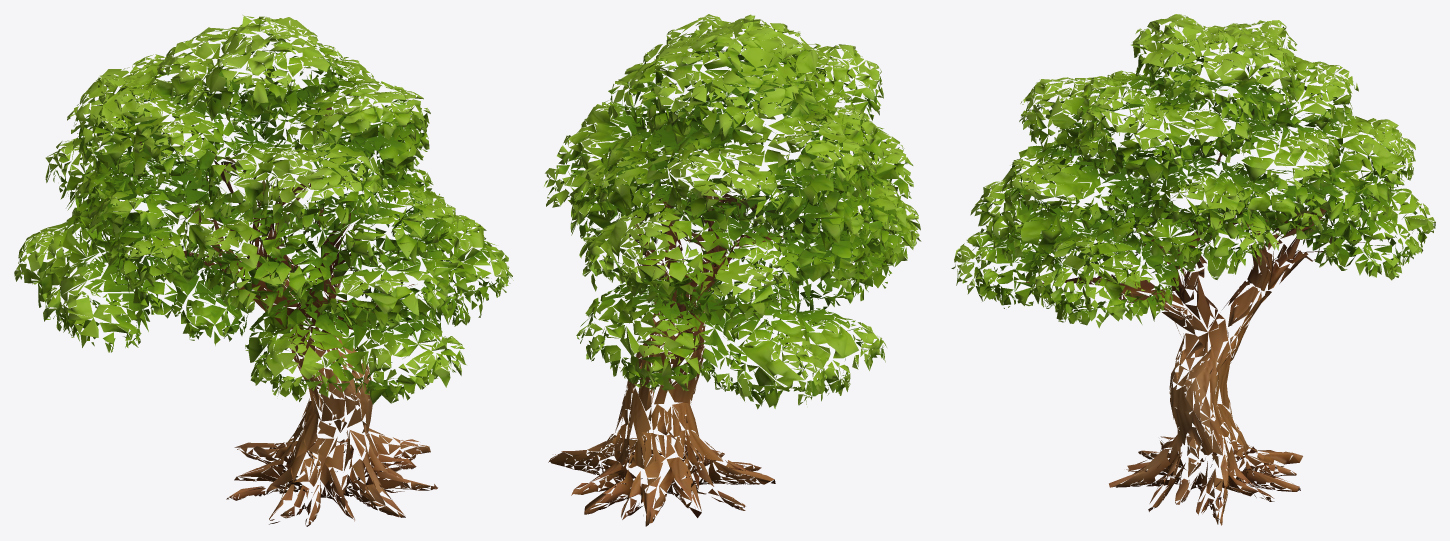
Rendered from plains_tree_01.glb.
The picture shows the model from 3 angles, left to right: view 1: azimuth 30°, elevation 25°; view 2: azimuth 150°, elevation 25°; view 3: azimuth 270°, elevation 25°; orthographic projection. The views are drawn at different scales.
Visible parts, largest first — view 1: tripo_node_a77a70a2-8fc5-42a8-b8e0-948a39243490; view 2: tripo_node_a77a70a2-8fc5-42a8-b8e0-948a39243490; view 3: tripo_node_a77a70a2-8fc5-42a8-b8e0-948a39243490.
Boxes of the visible parts, bbox=[...] form: tripo_node_a77a70a2-8fc5-42a8-b8e0-948a39243490: bbox=[14, 15, 513, 526]; tripo_node_a77a70a2-8fc5-42a8-b8e0-948a39243490: bbox=[544, 14, 921, 526]; tripo_node_a77a70a2-8fc5-42a8-b8e0-948a39243490: bbox=[951, 14, 1435, 525].
Bounding box in the file's own units: 0.7432 × 0.9497 × 0.9786.
1 material, 1 textured.
